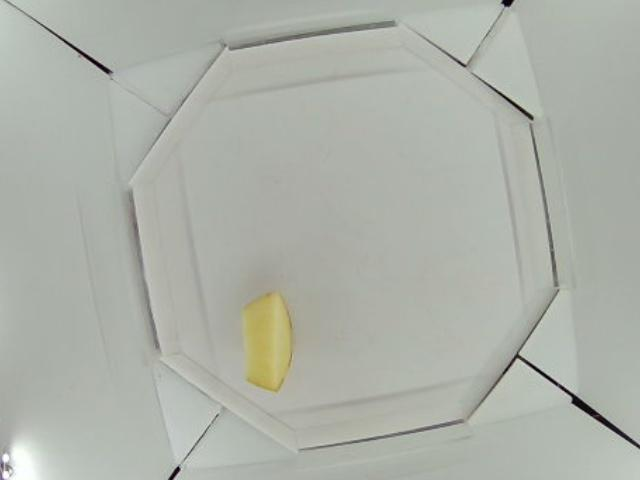Potato: (241, 292, 294, 395)
